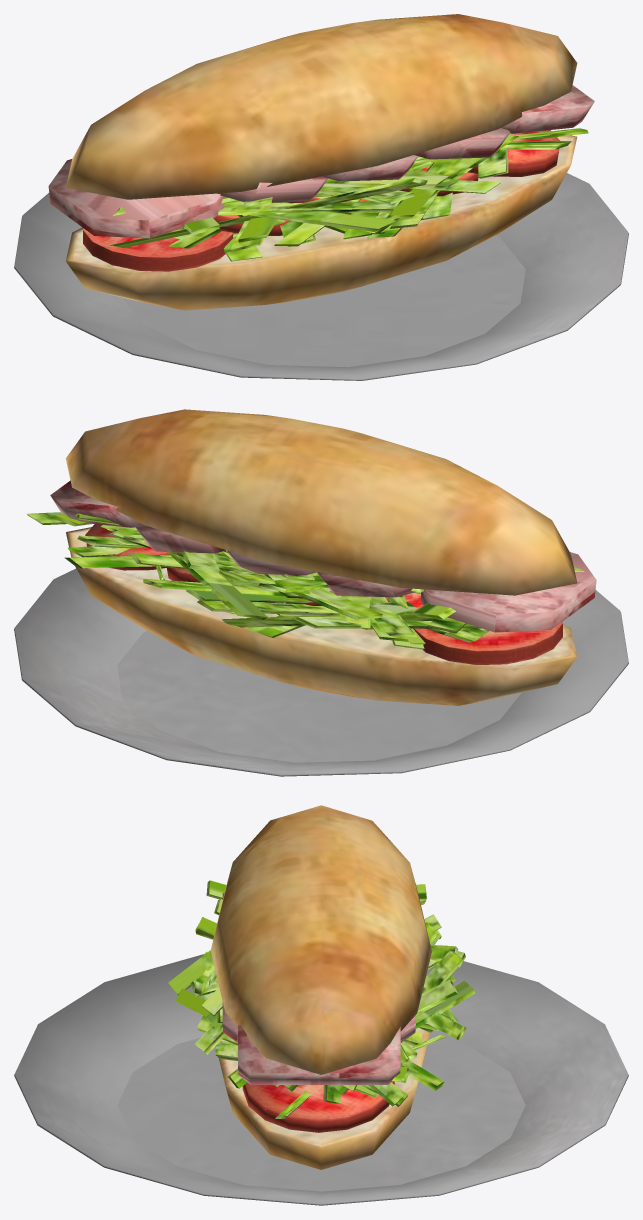
The model's file is sandwitch.fbx.
The picture shows the model from 3 angles, top to bottom: view 1: azimuth 30°, elevation 25°; view 2: azimuth 150°, elevation 25°; view 3: azimuth 270°, elevation 25°; orthographic projection.
Visible parts, largest first — view 1: SM_SmartSandwich; view 2: SM_SmartSandwich; view 3: SM_SmartSandwich.
Boxes of the visible parts, left/top/right/bottom form: SM_SmartSandwich: left=14, top=14, right=628, bottom=380; SM_SmartSandwich: left=14, top=409, right=628, bottom=776; SM_SmartSandwich: left=14, top=805, right=628, bottom=1205.
Bounding box in the file's own units: 21.77 × 9.31 × 21.77.
